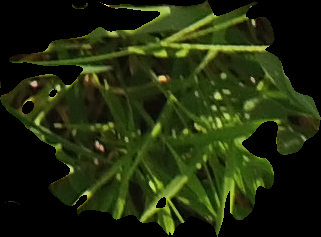grass: (1, 1, 320, 236)
